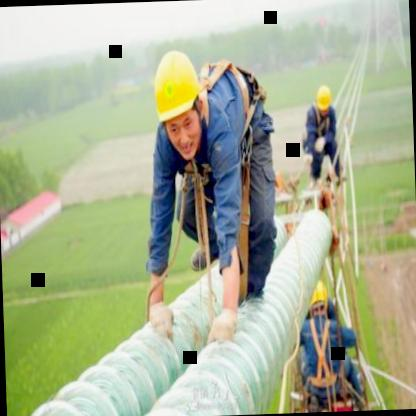helmet: (148, 42, 210, 166), (304, 280, 334, 324), (314, 84, 332, 119)
